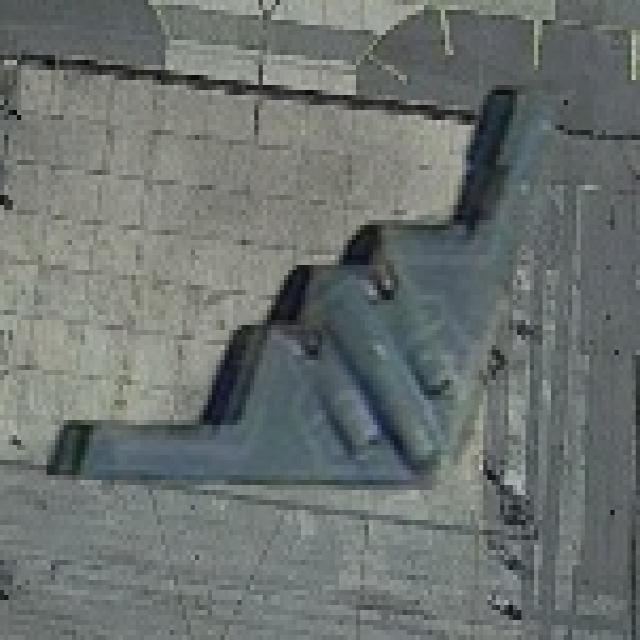B-2_TopDown: (42, 80, 551, 495)
